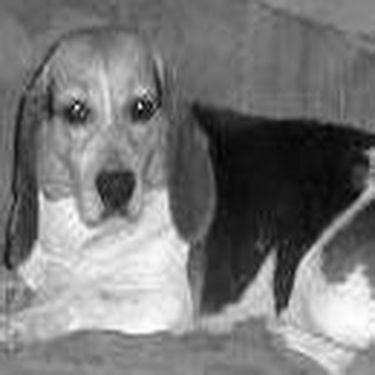dog: (1, 27, 370, 372)
